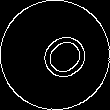O_SW: (21, 22, 89, 88)
